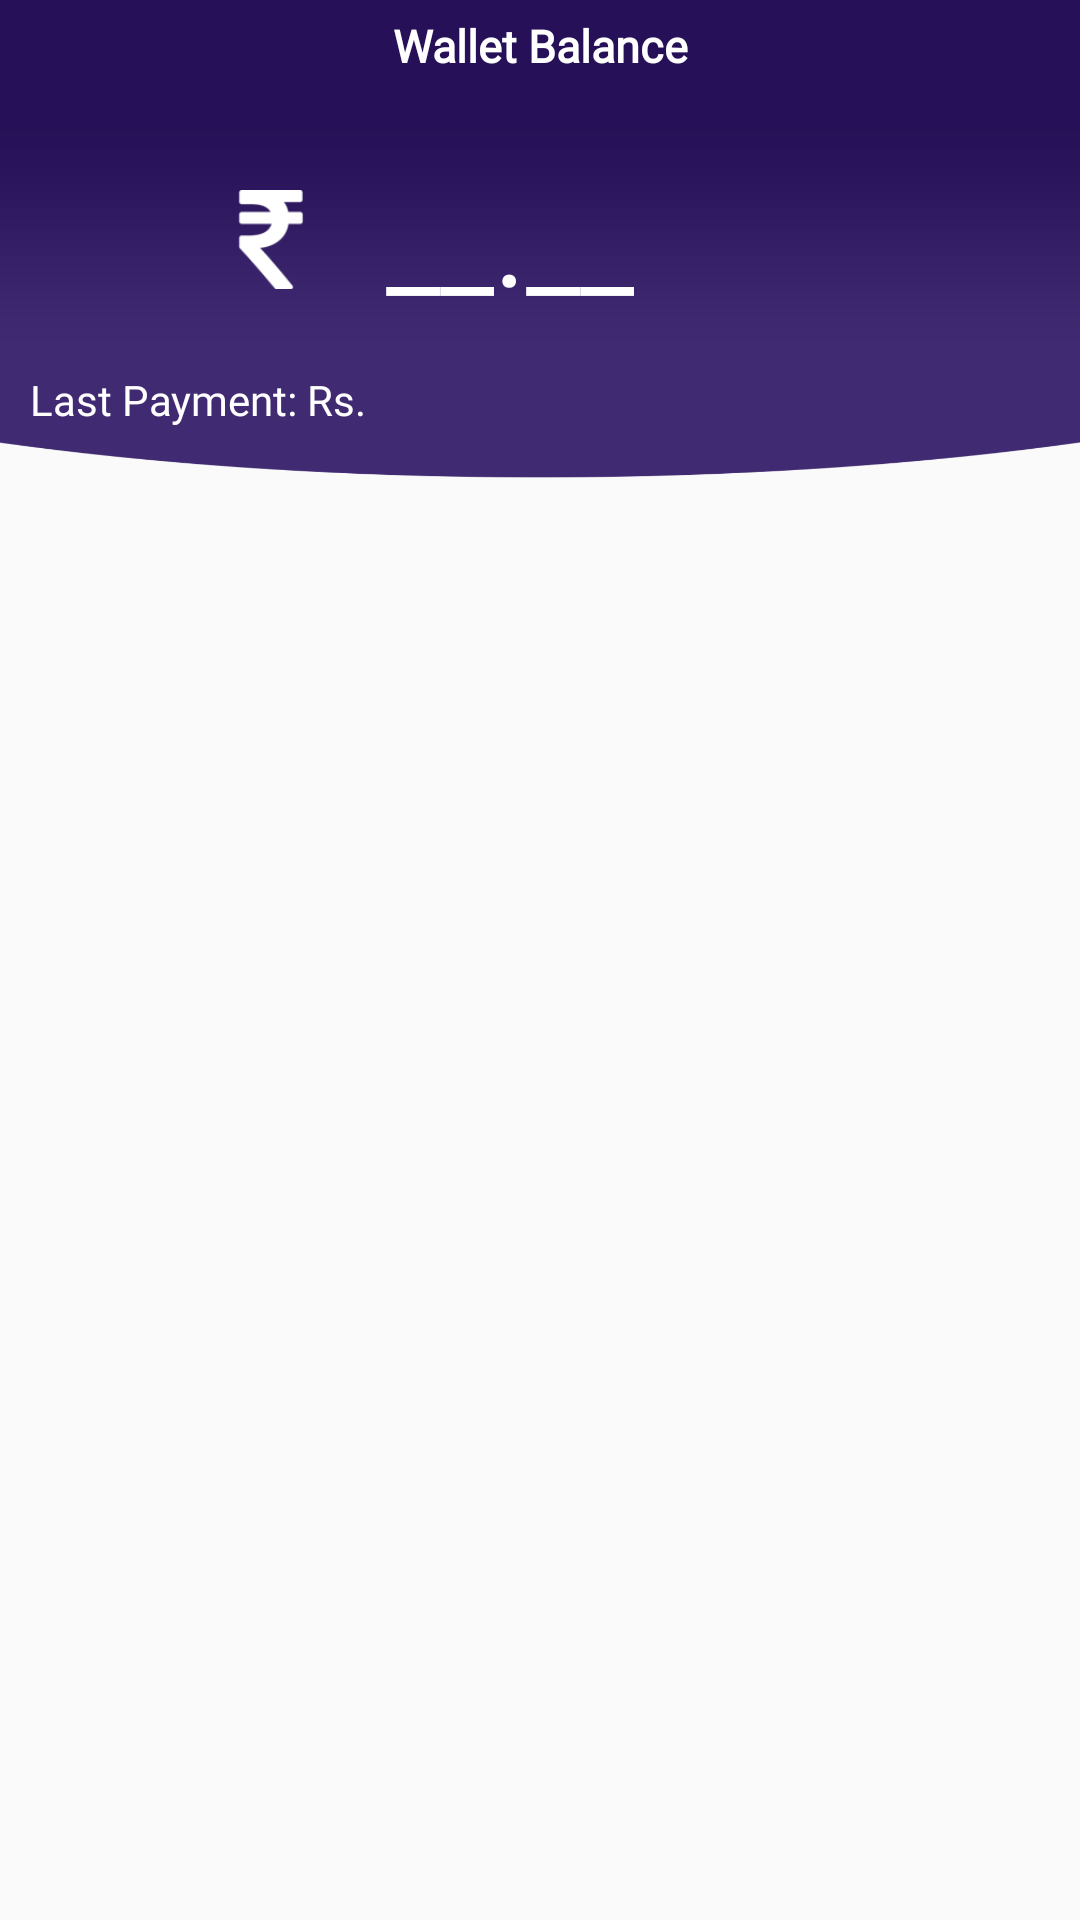

Where icons sit on this 1080 x 1920 app screen, as (x1, y1, x2, y2):
rupees: (239, 190, 303, 289)
